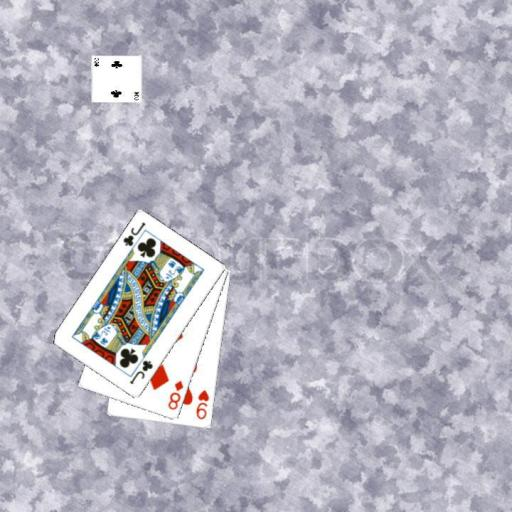8D: (165, 378, 185, 412)
9H: (194, 387, 211, 421)
JC: (127, 357, 154, 386), (120, 219, 147, 248)
